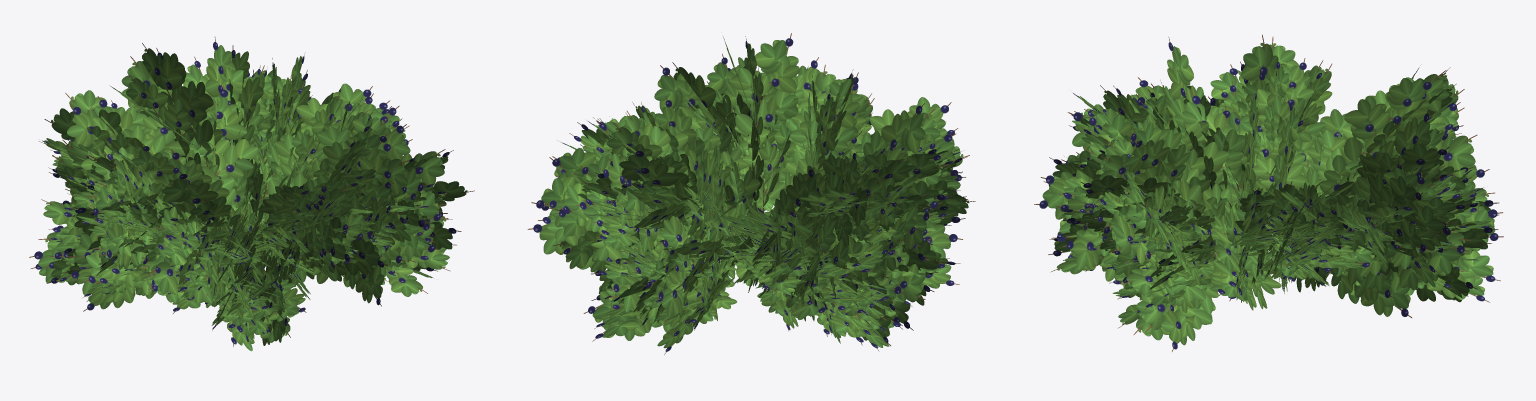
The model's file is bilberry_low_v01_LOD1.fbx.
3 renders of one model, left to right at view 1: azimuth 30°, elevation 25°; view 2: azimuth 150°, elevation 25°; view 3: azimuth 270°, elevation 25°, orthographic. The views are drawn at different scales.
Parts seen in each view (by area): view 1: bilberry_low_v01_LOD1; view 2: bilberry_low_v01_LOD1; view 3: bilberry_low_v01_LOD1.
Part boxes in pixels (x1=…): bilberry_low_v01_LOD1: x1=29, y1=37, x2=474, y2=351; bilberry_low_v01_LOD1: x1=527, y1=33, x2=975, y2=354; bilberry_low_v01_LOD1: x1=1034, y1=34, x2=1503, y2=351.
Bounding box in the file's own units: 58.8 × 38 × 61.37.
2 materials, 2 textured.
